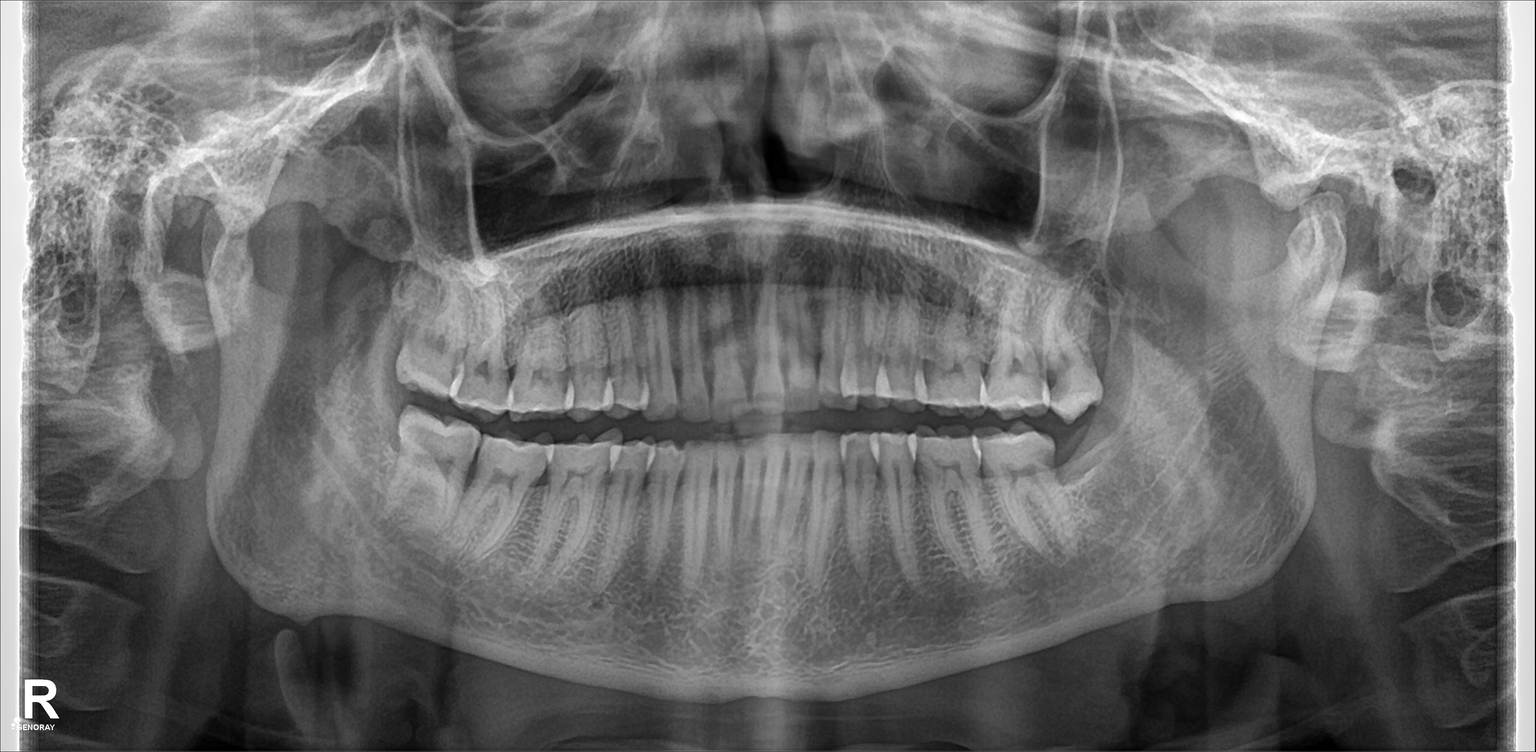Impacted Third Molar: (391, 417, 478, 529)
Missing Tooth: (1058, 421, 1105, 492)
